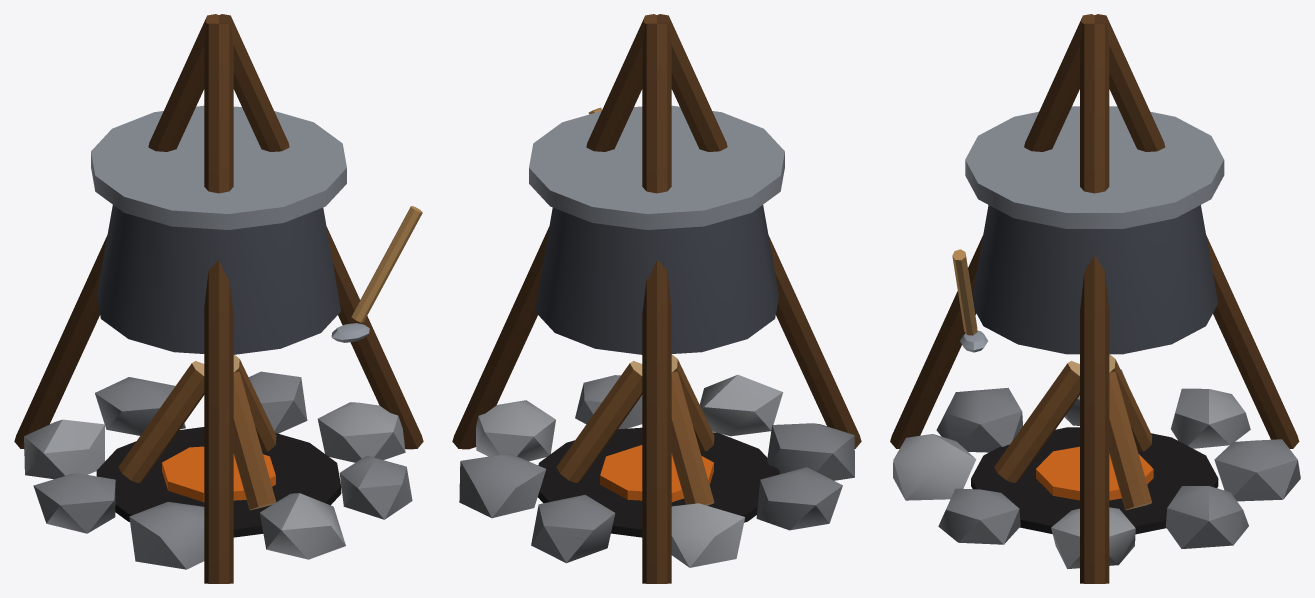
Rendered from pot.glb.
3 renders of one model, left to right at view 1: azimuth 30°, elevation 25°; view 2: azimuth 150°, elevation 25°; view 3: azimuth 270°, elevation 25°, orthographic.
Visible parts, largest first — view 1: pot, pot_craft; view 2: pot; view 3: pot, pot_craft.
Part boxes in pixels (box(x1,y1,x2,y2)): pot: box(14, 14, 423, 583); pot_craft: box(331, 206, 422, 342); pot: box(452, 14, 861, 583); pot: box(890, 14, 1300, 583); pot_craft: box(952, 249, 987, 352).
Bounding box in the file's own units: 1.47 × 1.77 × 1.4.
